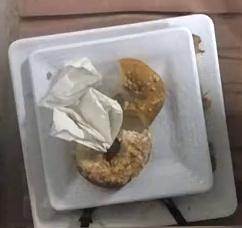donut: (76, 58, 164, 187)
